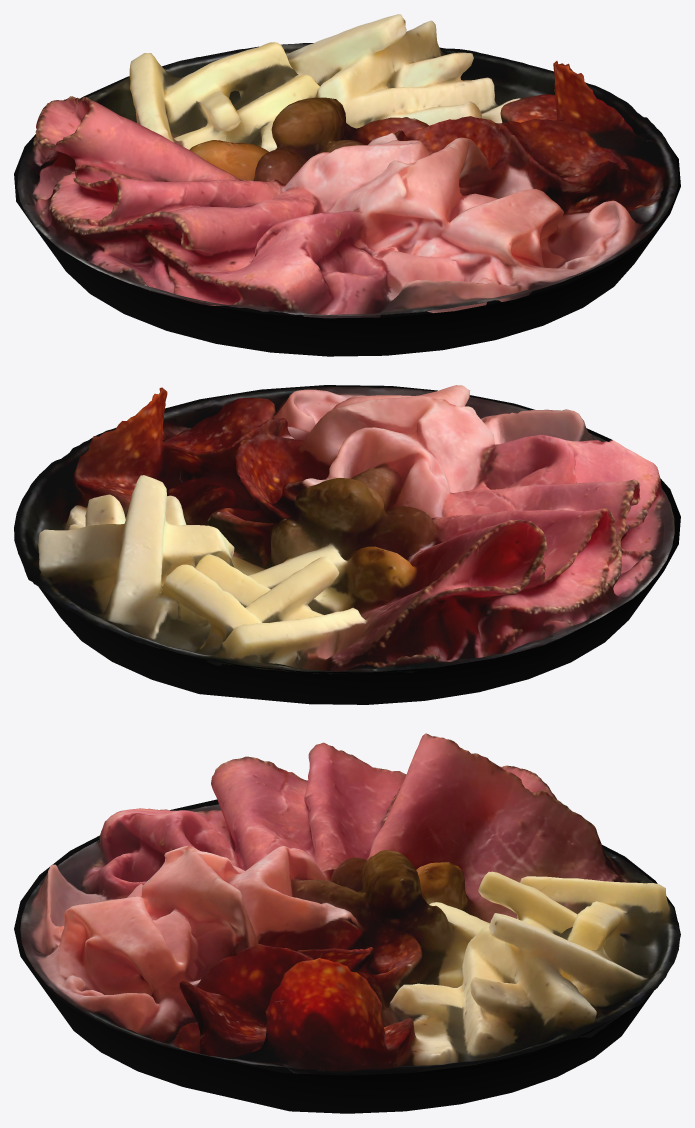
File: planche_de_charcuterie.glb
3 renders of one model, top to bottom at view 1: azimuth 30°, elevation 25°; view 2: azimuth 150°, elevation 25°; view 3: azimuth 270°, elevation 25°, orthographic.
Visible parts, largest first — view 1: defaultGroup0, Circle; view 2: defaultGroup0, Circle; view 3: defaultGroup0, Circle.
Part boxes in pixels (x1,y1,x2,y2): defaultGroup0: (17,14,678,318); Circle: (14,43,680,356); defaultGroup0: (14,385,674,674); Circle: (14,385,680,704); defaultGroup0: (20,733,680,1075); Circle: (14,799,680,1113).
Bounding box in the file's own units: 0.2748 × 0.0679 × 0.2748.
Materials: 2 (1 with a texture image).
